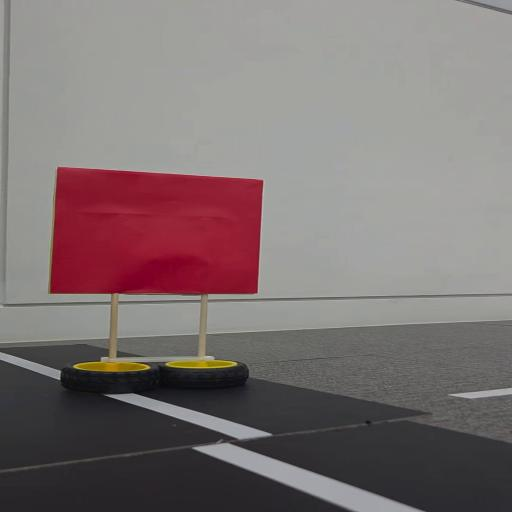Sign_A: (44, 162, 279, 395)
